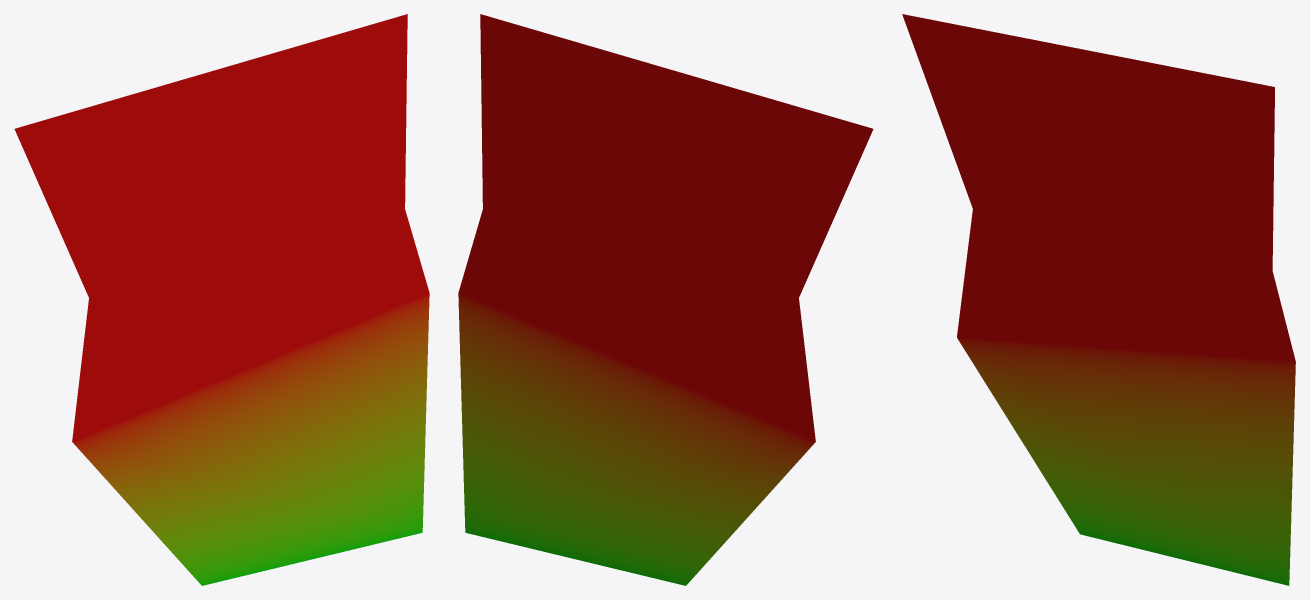
Rendered from Var1_LOD4.fbx.
3 renders of one model, left to right at view 1: azimuth 30°, elevation 25°; view 2: azimuth 150°, elevation 25°; view 3: azimuth 330°, elevation 25°, orthographic. The views are drawn at different scales.
Parts seen in each view (by area): view 1: _cd70_Var1_LOD4; view 2: _cd70_Var1_LOD4; view 3: _cd70_Var1_LOD4.
Boxes of the visible parts, x1,y1,x2,y2 form: _cd70_Var1_LOD4: (14, 14, 429, 585); _cd70_Var1_LOD4: (458, 14, 873, 585); _cd70_Var1_LOD4: (902, 14, 1295, 585).
Bounding box in the file's own units: 115 × 138 × 1.54e-05.
